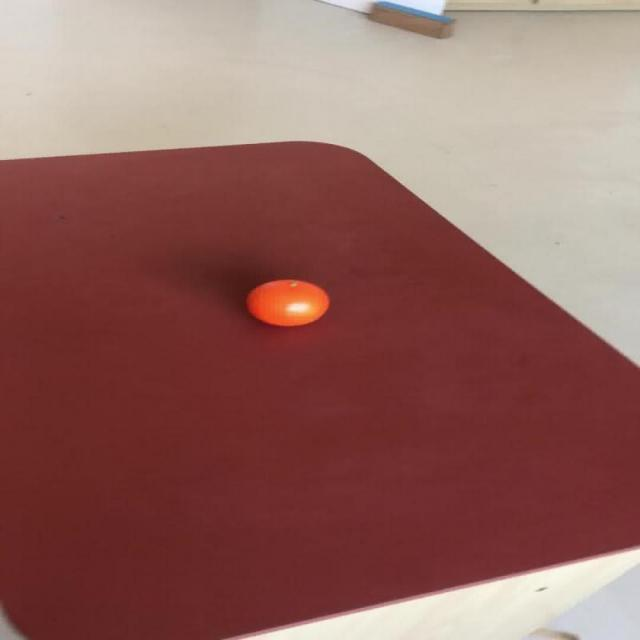Orange: (244, 278, 330, 326)
